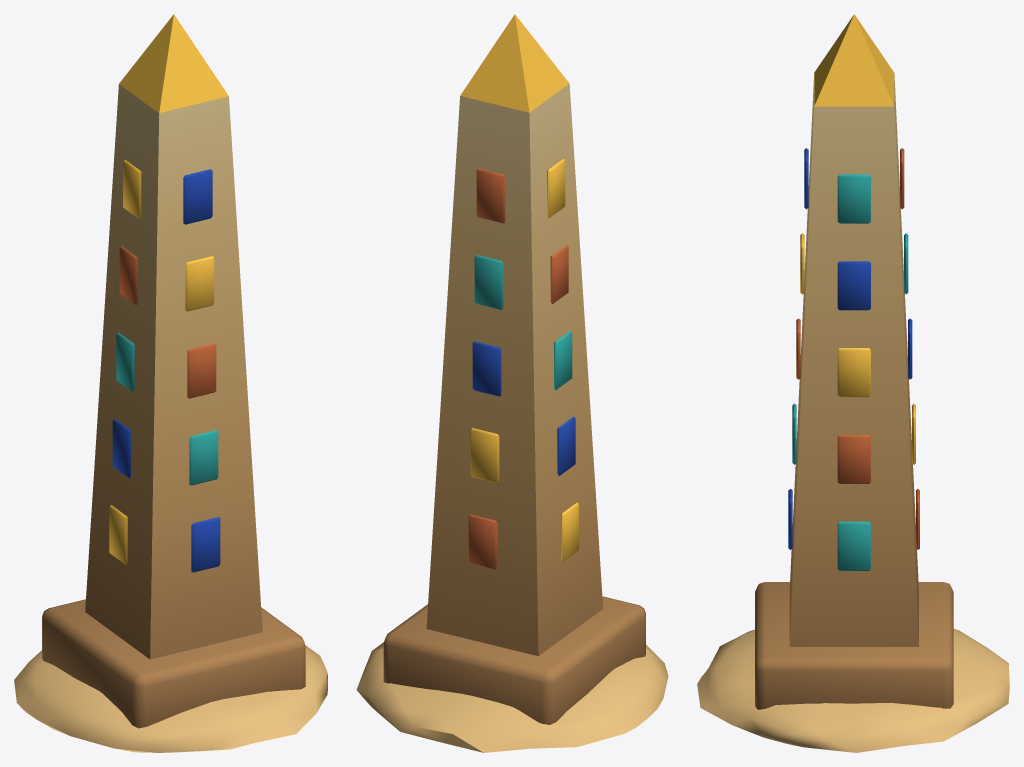
The model's file is Obelisk.fbx.
3 renders of one model, left to right at view 1: azimuth 30°, elevation 25°; view 2: azimuth 150°, elevation 25°; view 3: azimuth 270°, elevation 25°, orthographic.
Visible parts, largest first — view 1: Obelisk; view 2: Obelisk; view 3: Obelisk.
Boxes of the visible parts, x1,y1,x2,y2 form: Obelisk: (14,14,327,752); Obelisk: (356,14,668,752); Obelisk: (697,14,1009,752).
Size of the model in its own units: 1.5 by 3.55 by 1.5.
Materials: 1 (1 with a texture image).
